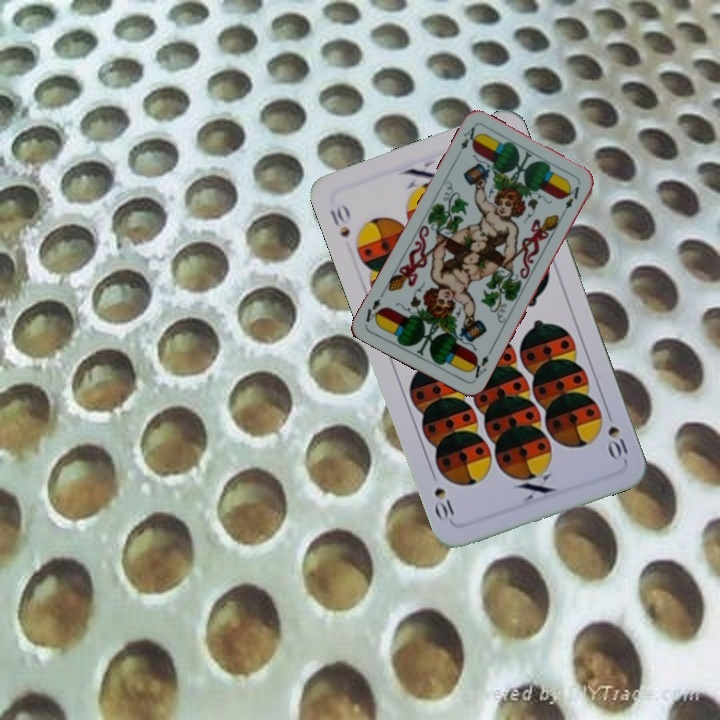EA: (453, 123, 481, 160), (466, 351, 491, 384)
S10: (602, 406, 631, 463), (326, 199, 353, 241)
